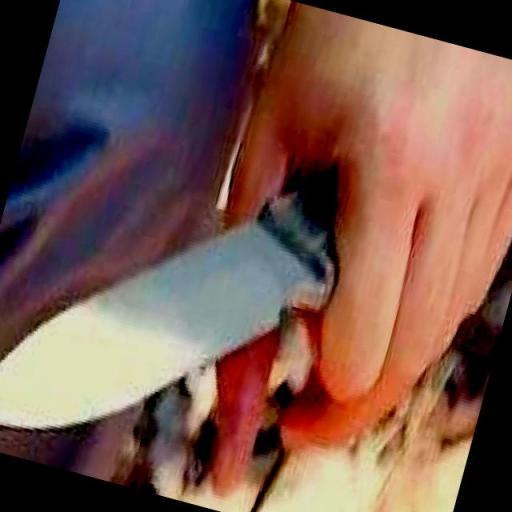knife: (0, 45, 493, 512)
